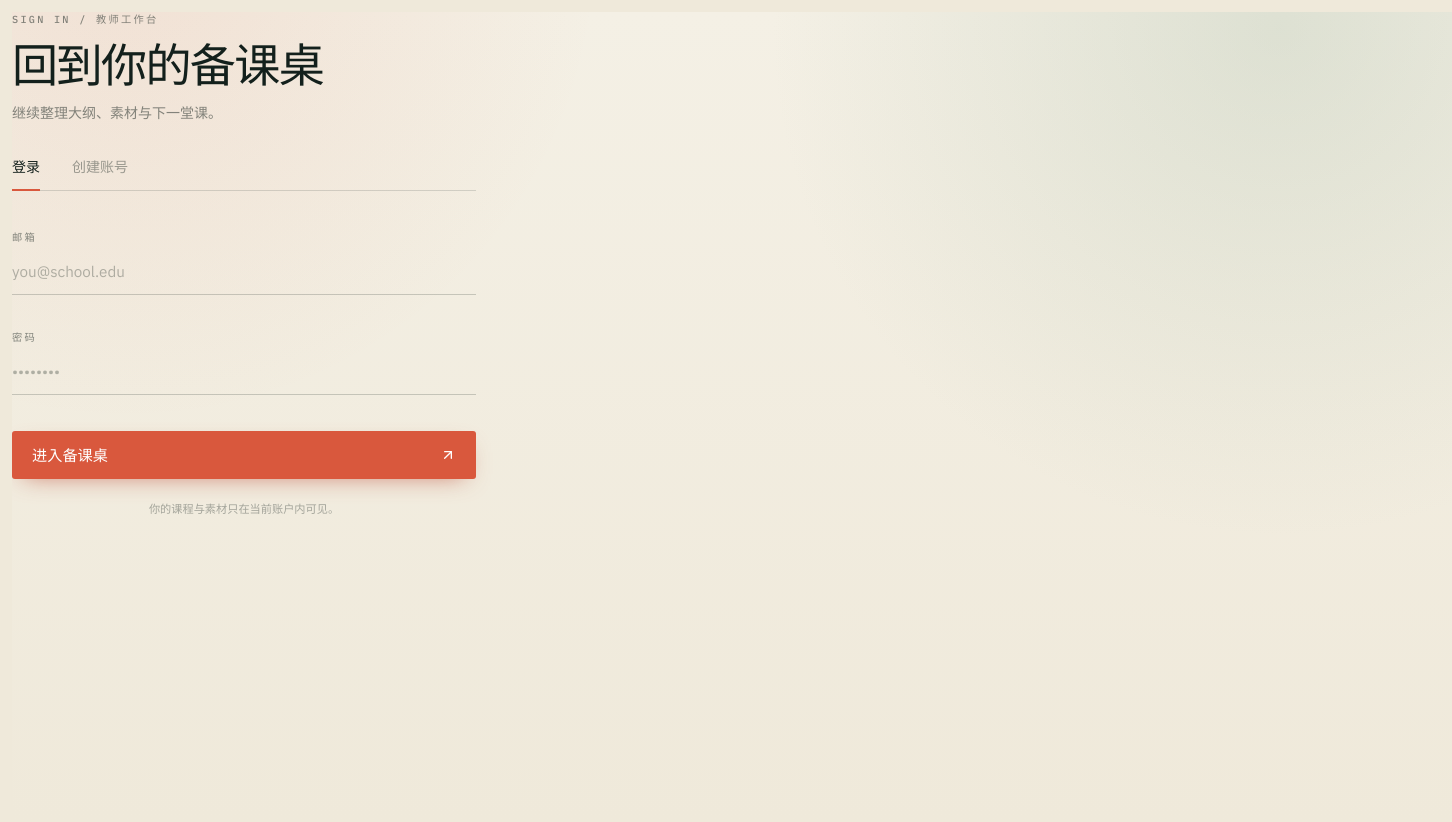
Scenario: LoginForm › sends a code without creating the account
Click the tab "创建账号". click: (100, 174)
box: [72,157,128,191]
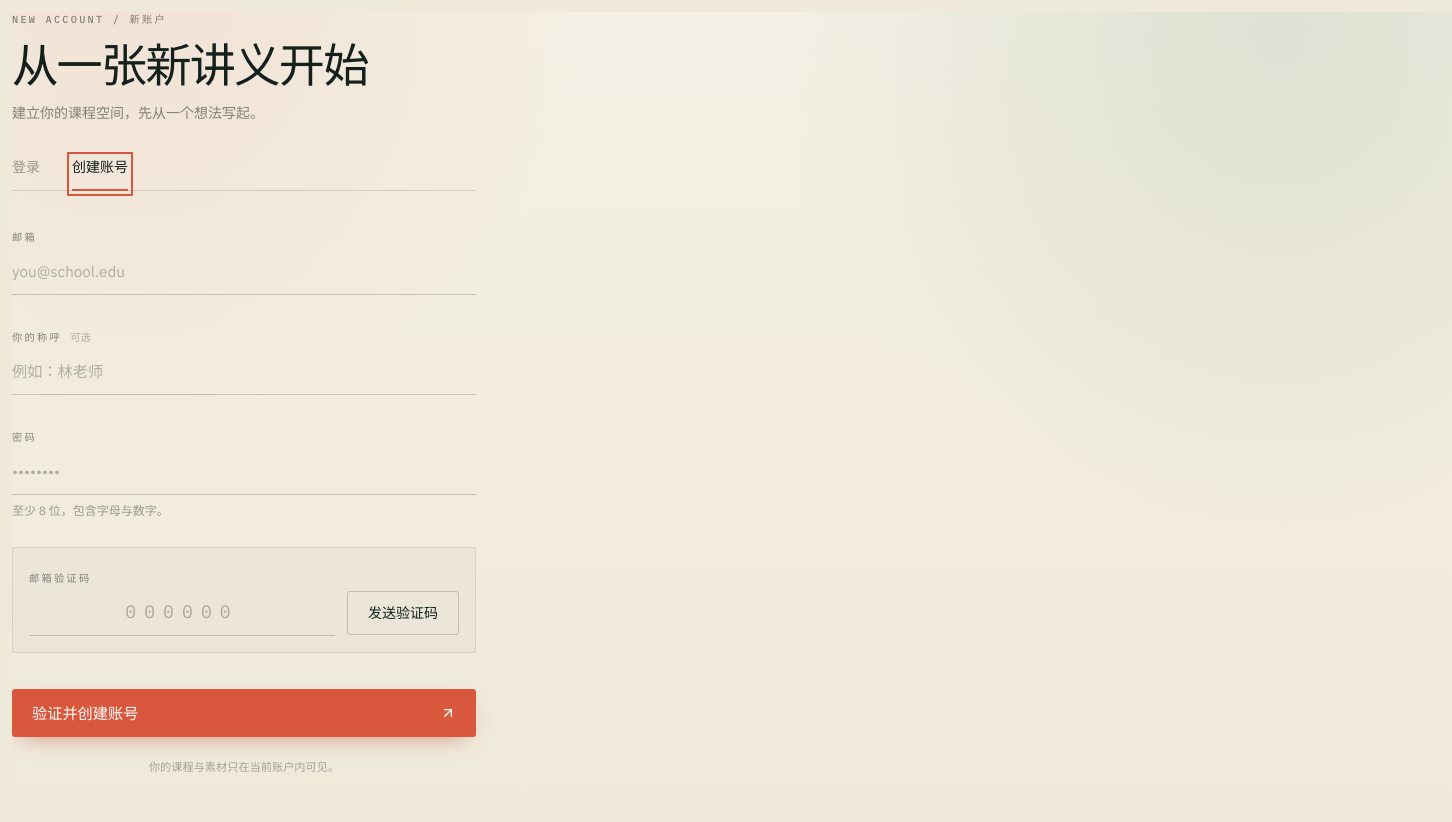
Type "teacher@example.com" into the field labelled "邮箱". click: (244, 271)
box: [12,247,476,295]
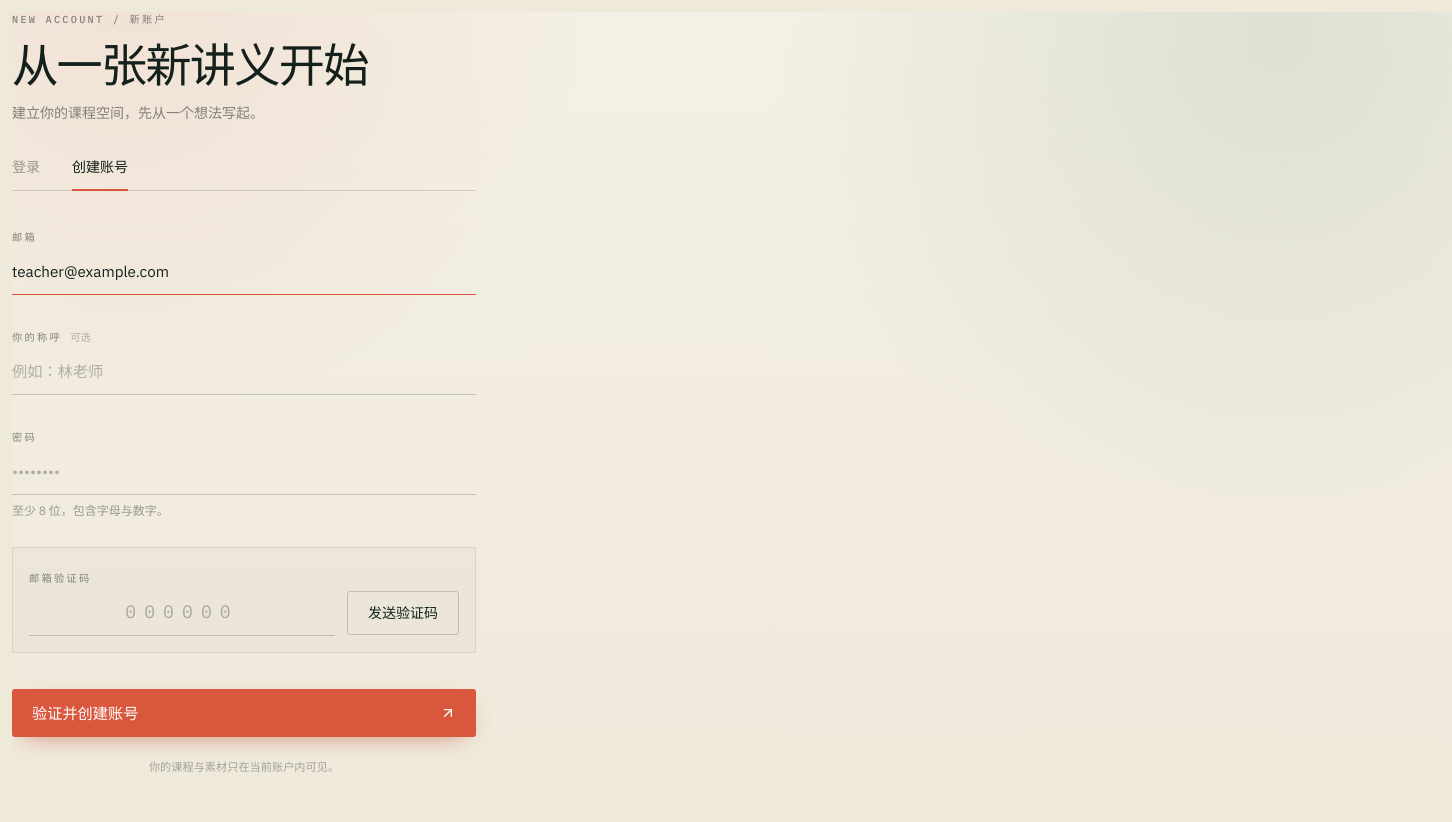
Click the button "发送验证码". click: (403, 613)
box: [347,591,459,635]
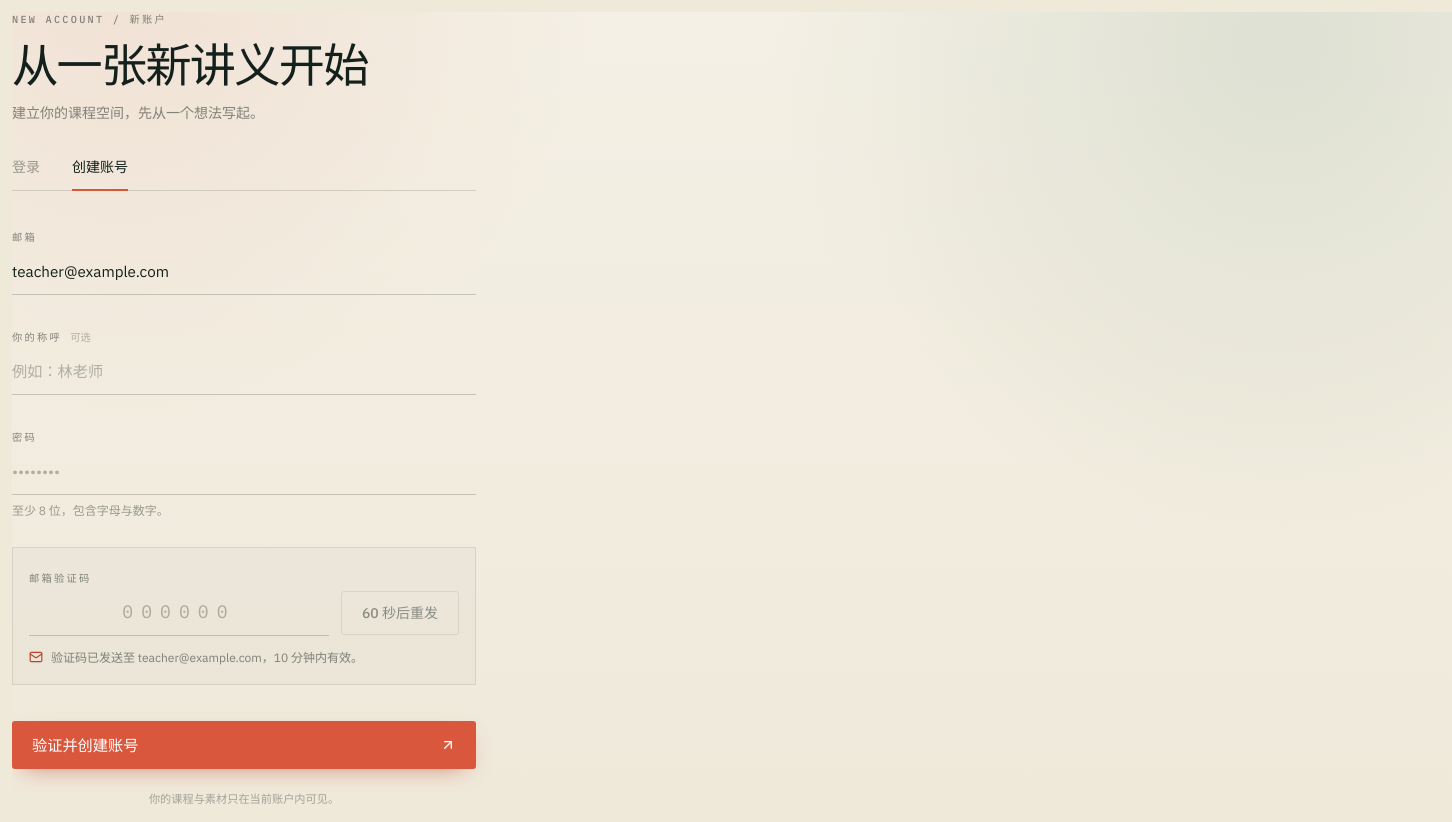
Expected: the text "验证码已发送至 teacher@example.com，10 分钟内有效。" is shown, [51,648,363,668]
Expected: the button "60 秒后重发" is disabled, [341,591,459,635]
